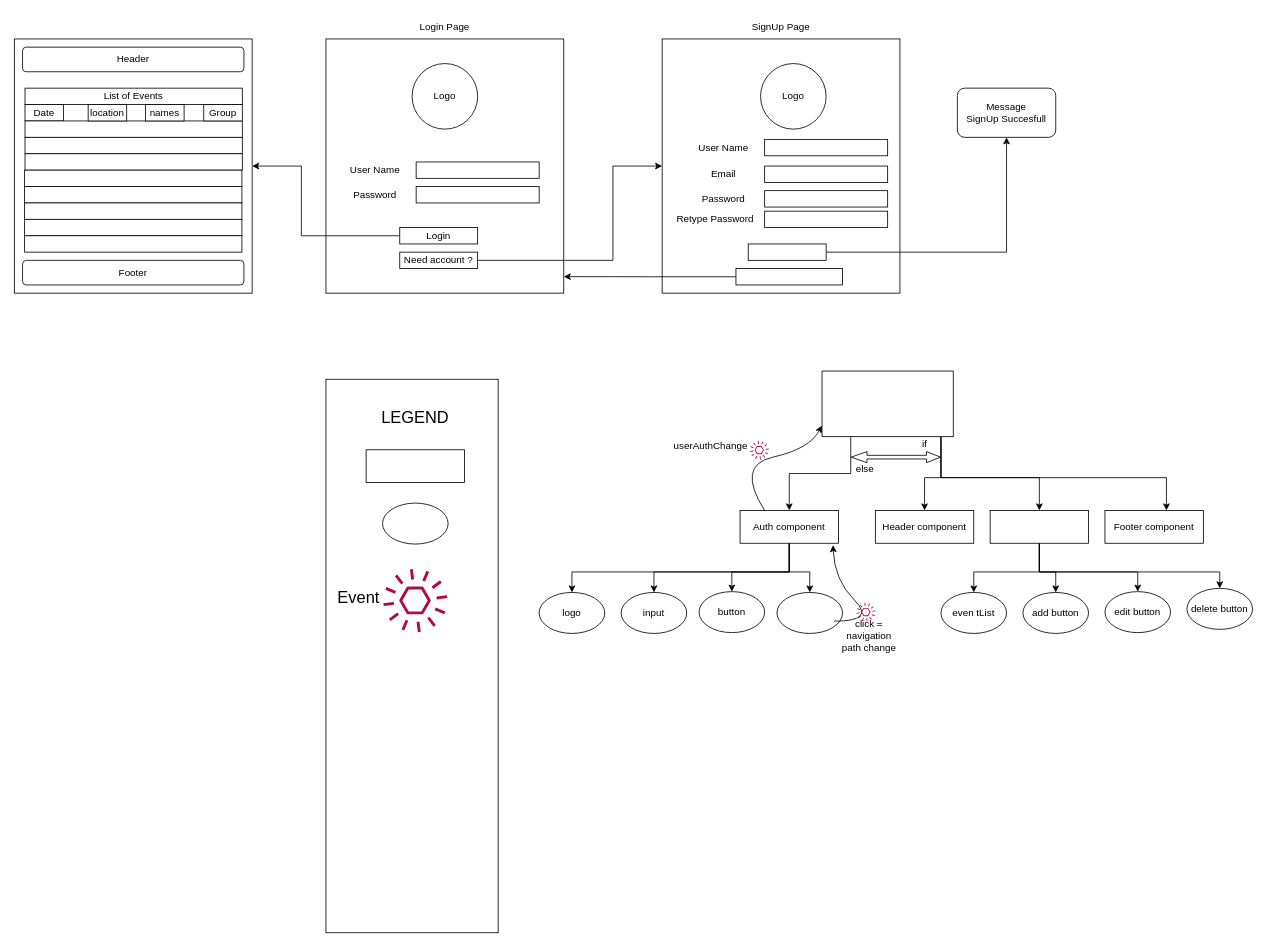
The diagram is 1267 pixels wide and 947 high, and some of its shapes have lost their labels. The centre of each missing label's shape, as x and y in pixels:
"Alrady have account ?" goes at point 789,276.
"app.component" goes at point 887,403.
"Componenta" goes at point 415,466.
"dashboard component" goes at point 1039,526.
"HTML element" goes at point 415,523.
"link" goes at point 809,612.
"SignUp" goes at point 786,251.
